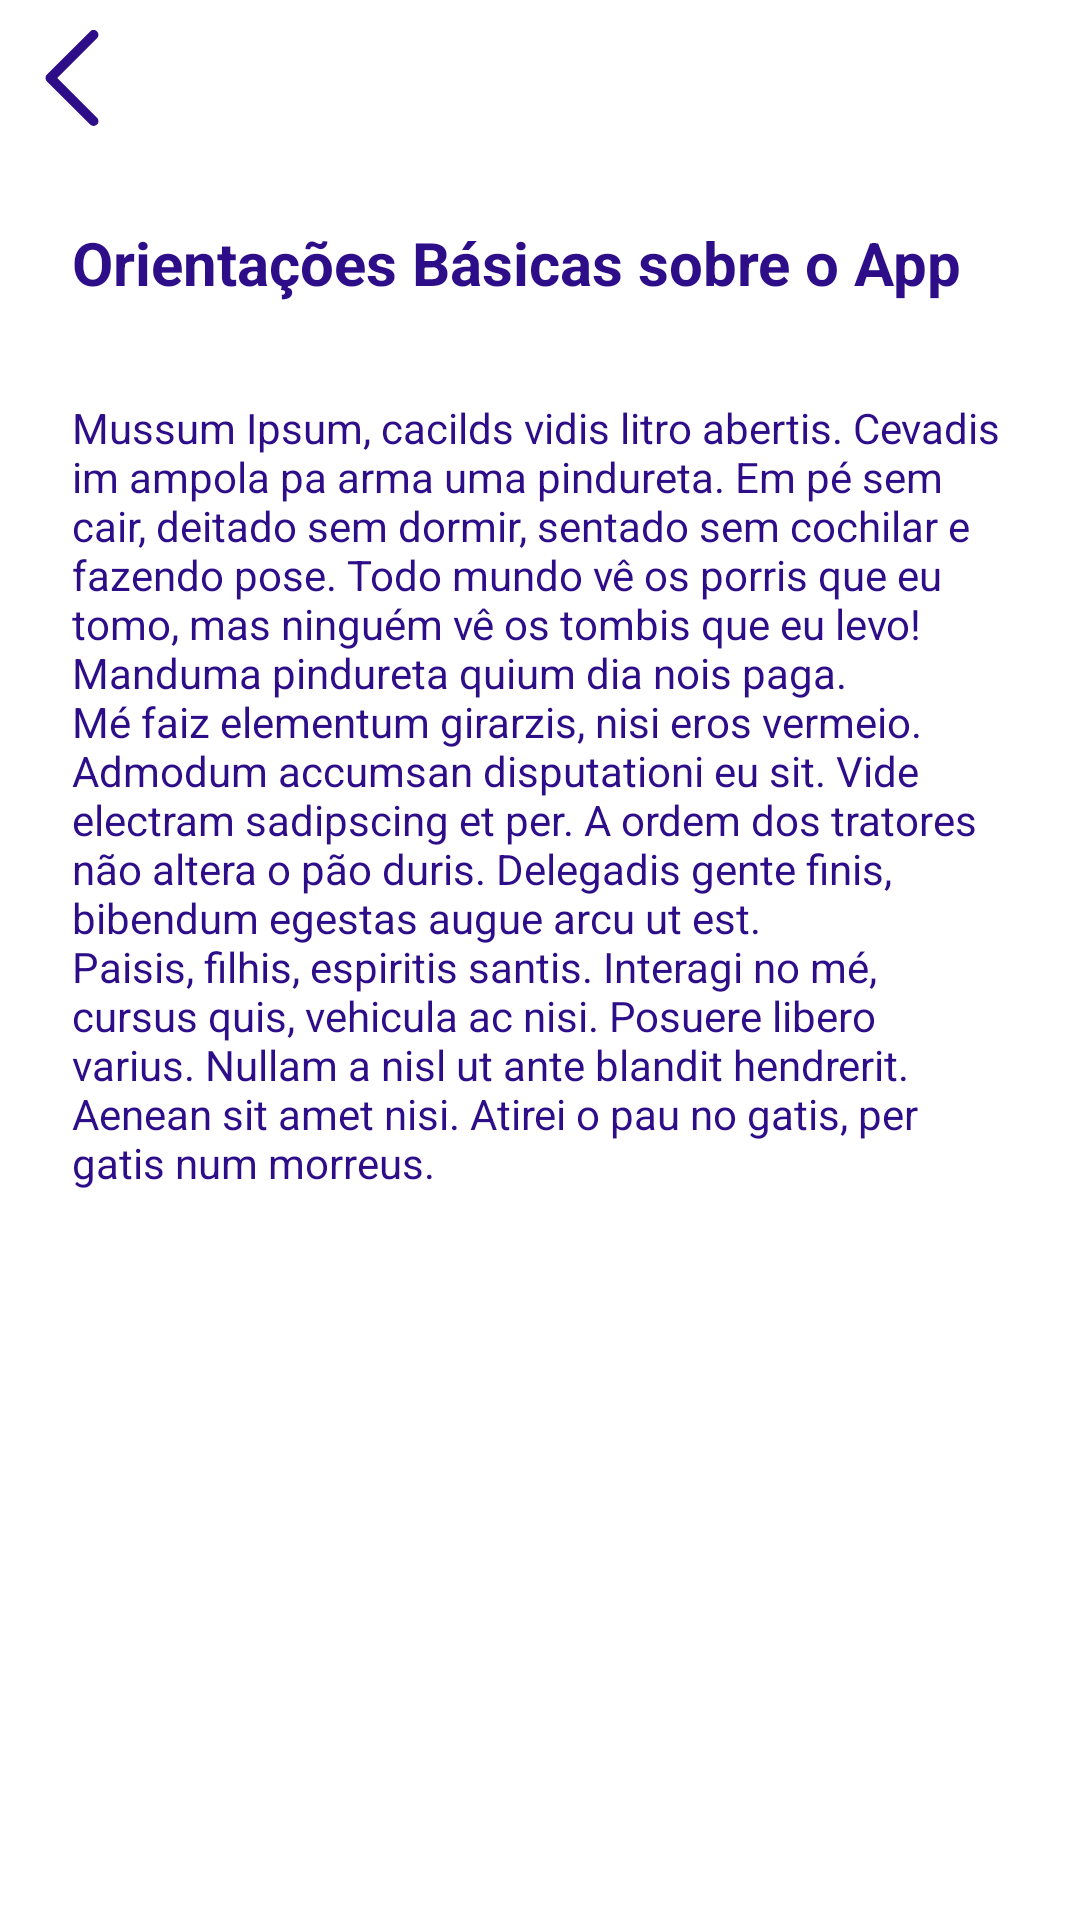

Named icons in this screenshot (1080 × 1920) and their bounding boxes, (x1, y1, x2, y2):
back: (45, 30, 99, 126)
